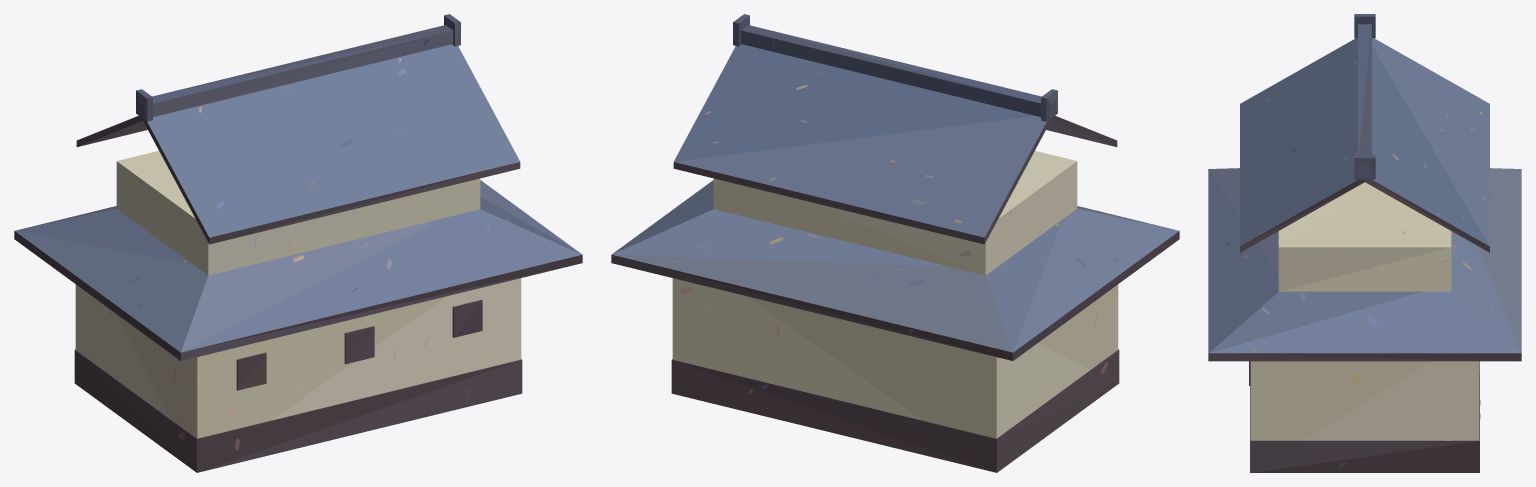
The model's file is HK_Yagura.lod.glb.
The picture shows the model from 3 angles, left to right: view 1: azimuth 30°, elevation 25°; view 2: azimuth 150°, elevation 25°; view 3: azimuth 270°, elevation 25°; orthographic projection. The views are drawn at different scales.
Visible parts, largest first — view 1: HK_Yagura; view 2: HK_Yagura; view 3: HK_Yagura.
Boxes of the visible parts, <box> form: HK_Yagura: <box>14,14,582,472</box>; HK_Yagura: <box>611,14,1179,472</box>; HK_Yagura: <box>1208,14,1521,472</box>.
Bounding box in the file's own units: 12.41 × 9.8 × 8.91.
